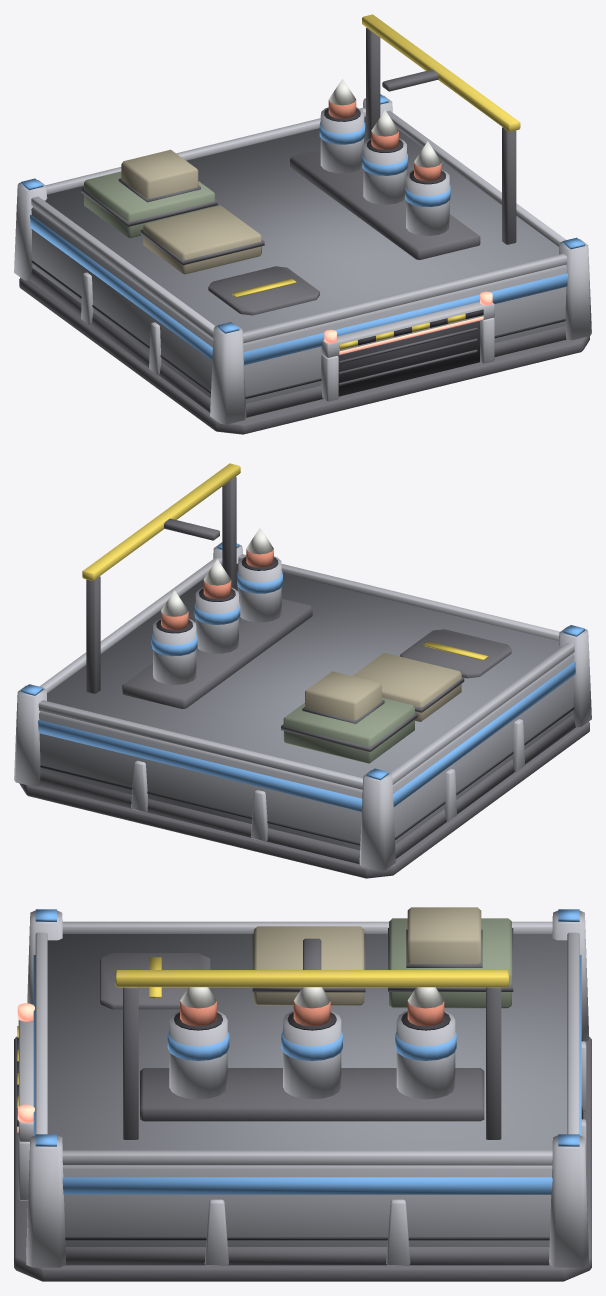
Rendered from armory.glb.
3 renders of one model, top to bottom at view 1: azimuth 30°, elevation 25°; view 2: azimuth 150°, elevation 25°; view 3: azimuth 270°, elevation 25°, orthographic. The views are drawn at different scales.
Visible parts, largest first — view 1: body; view 2: body; view 3: body.
Part boxes in pixels (x1,y1,x2,y2): body: (14, 14, 591, 434); body: (14, 463, 591, 878); body: (14, 907, 591, 1281).
Bounding box in the file's own units: 1.88 × 1 × 1.88.
